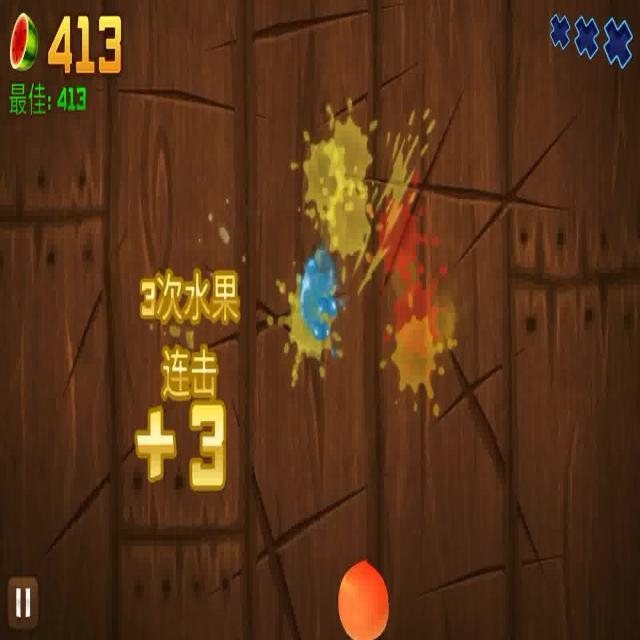fruit: (336, 554, 388, 639)
